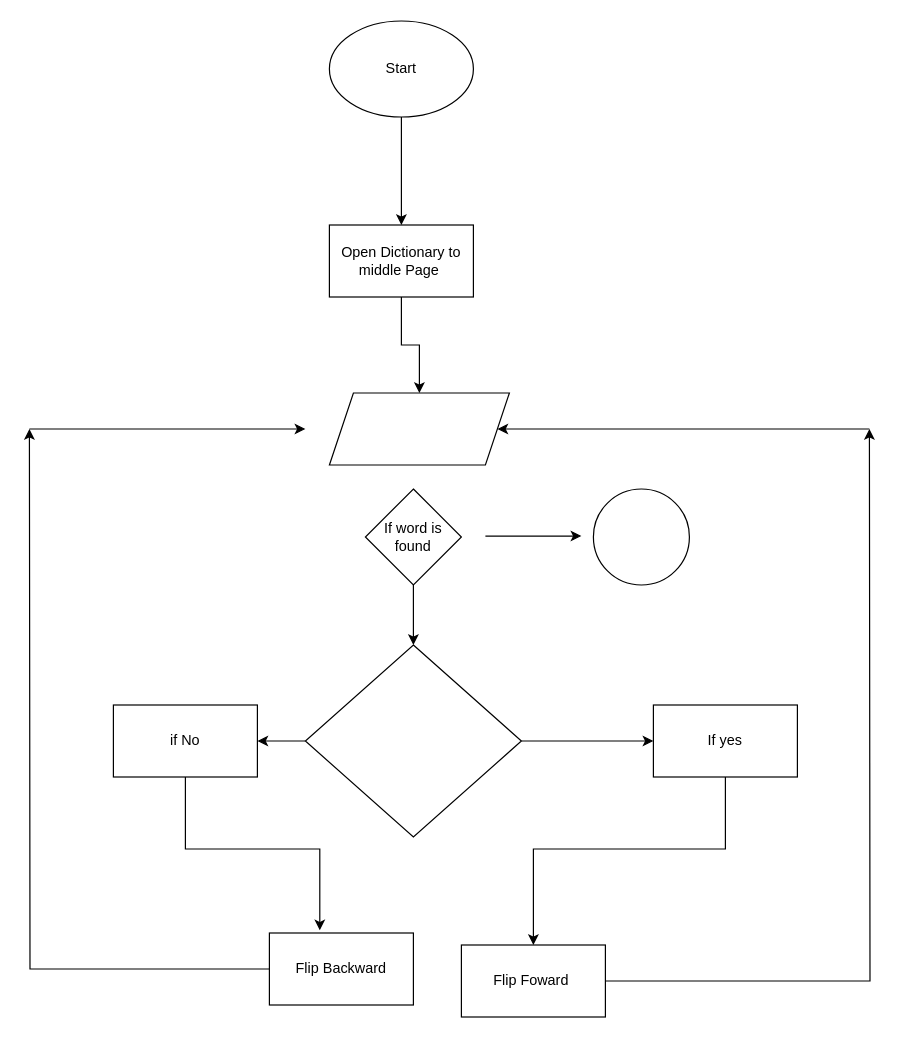
Some shapes in this 901 by 1038 pixel diagram are drawn without their labels. Here are the shapes that lost their labels. From the top down, the centre of each, then its label:
pixel 418 428: Get word on current
pixel 640 536: End
pixel 412 740: Is the target word aftrer the current word
